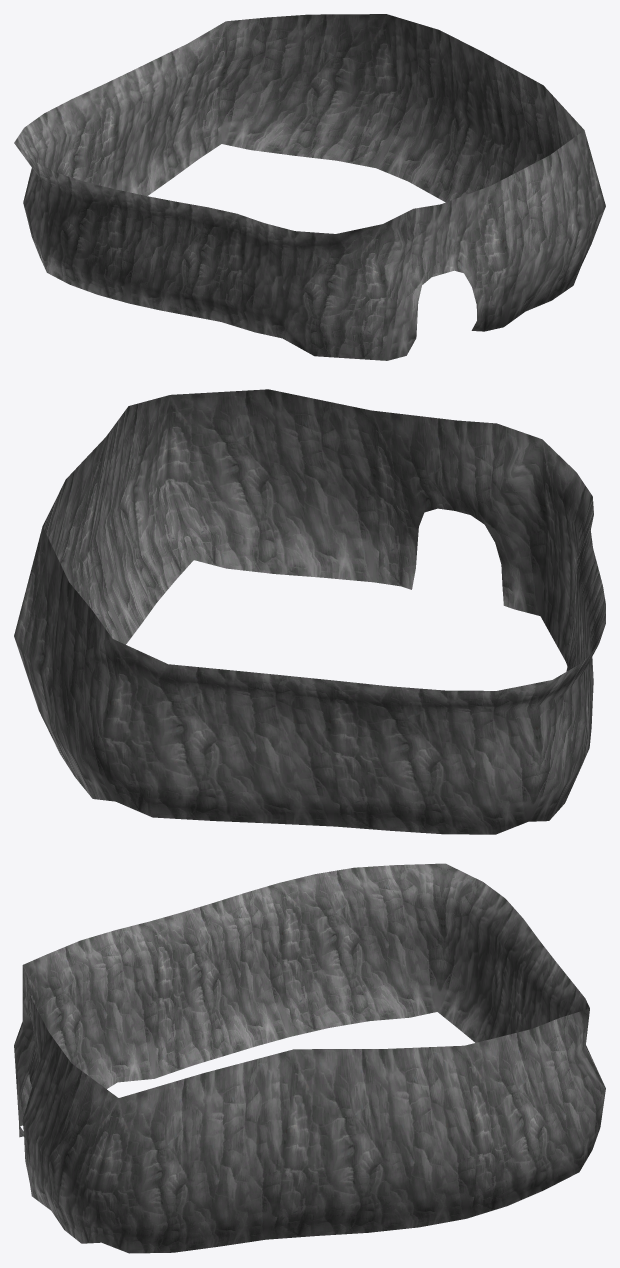
File: SWORDLIGHT20_PS-AREA03-05TRANS_07.fbx
3 renders of one model, top to bottom at view 1: azimuth 30°, elevation 25°; view 2: azimuth 150°, elevation 25°; view 3: azimuth 270°, elevation 25°, orthographic. The views are drawn at different scales.
Visible parts, largest first — view 1: SWORDLIGHT20_PS-AREA03-05TRANS_07; view 2: SWORDLIGHT20_PS-AREA03-05TRANS_07; view 3: SWORDLIGHT20_PS-AREA03-05TRANS_07.
Boxes of the visible parts, bbox=[...] form: SWORDLIGHT20_PS-AREA03-05TRANS_07: bbox=[14, 14, 605, 360]; SWORDLIGHT20_PS-AREA03-05TRANS_07: bbox=[14, 389, 605, 834]; SWORDLIGHT20_PS-AREA03-05TRANS_07: bbox=[14, 863, 605, 1253].
Bounding box in the file's own units: 182363 × 68326 × 179762.
1 material, 1 textured.
